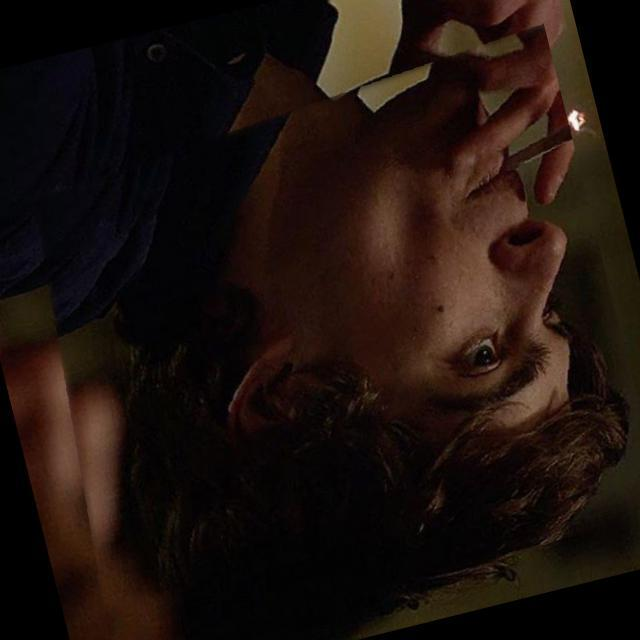cigarette: (426, 90, 606, 186)
